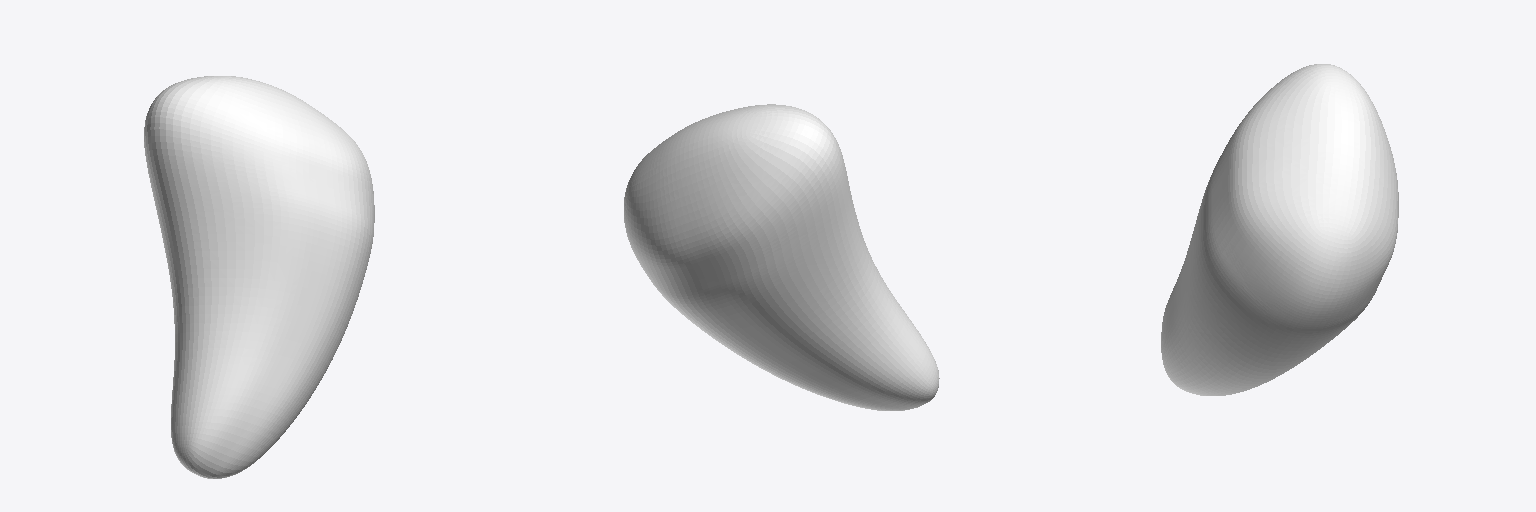
Rendered from BlobA.obj.
The picture shows the model from 3 angles: view 1: azimuth 30°, elevation 25°; view 2: azimuth 150°, elevation 25°; view 3: azimuth 270°, elevation 25°; orthographic projection.
Visible parts, largest first — view 1: BlobA; view 2: BlobA; view 3: BlobA.
Part boxes in pixels (bbox=[...]): BlobA: bbox=[144, 76, 374, 478]; BlobA: bbox=[624, 104, 939, 410]; BlobA: bbox=[1161, 64, 1398, 395].
Bounding box in the file's own units: 478 × 621 × 400.